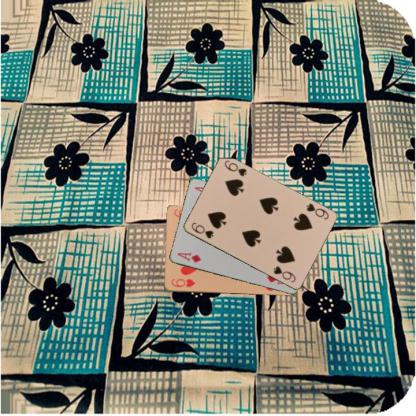6h: (169, 276, 196, 288)
6s: (188, 219, 214, 240), (303, 201, 330, 221)
Ad: (175, 250, 202, 264)
